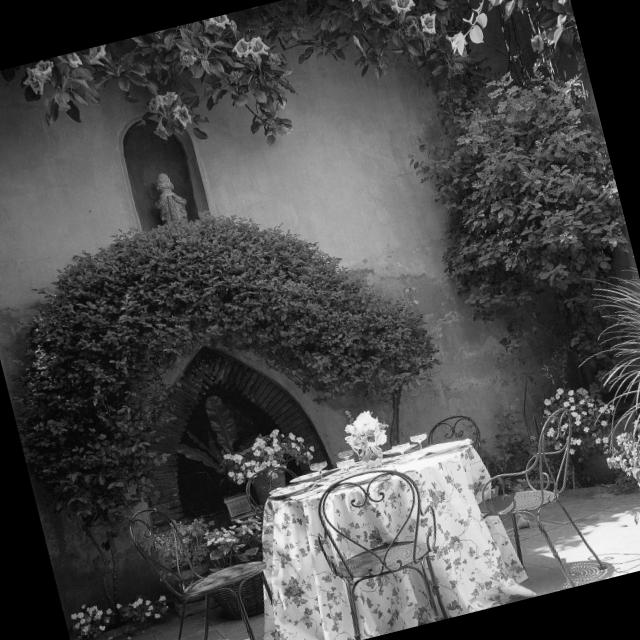bouquet: (219, 429, 313, 480), (347, 413, 386, 462)
bush: (412, 69, 631, 349)
chair -occluded-: (316, 471, 448, 639)
